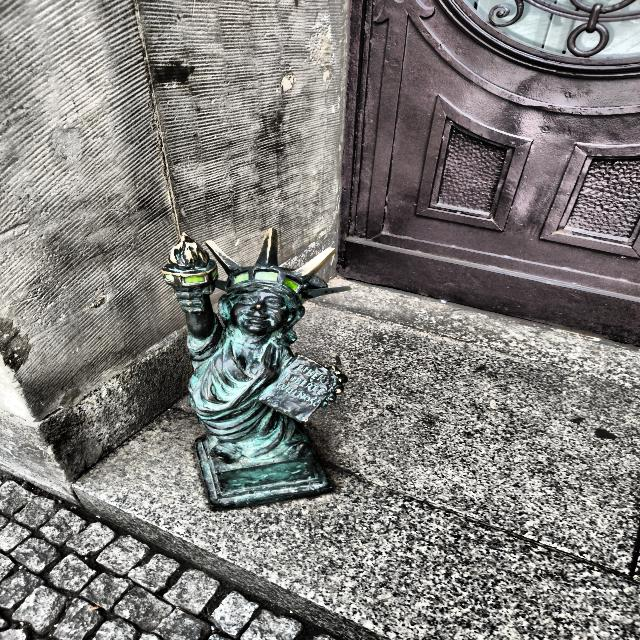LadyWolnosc: (163, 229, 350, 509)
